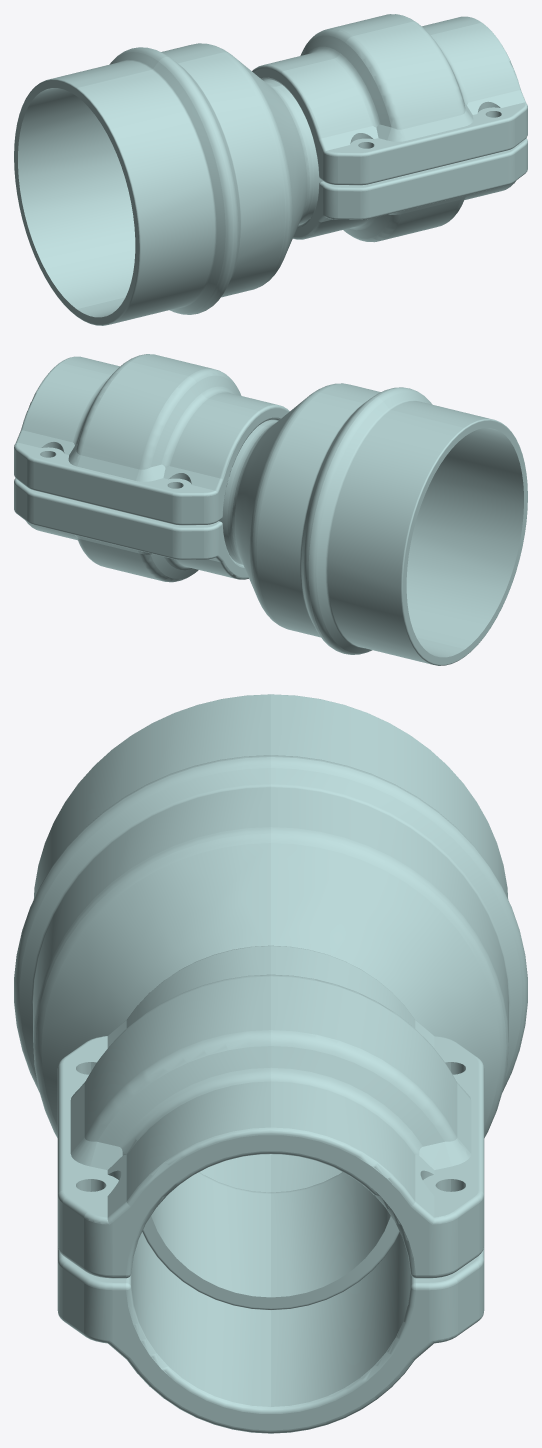
The picture shows the model from 3 angles, top to bottom: view 1: azimuth 30°, elevation 25°; view 2: azimuth 150°, elevation 25°; view 3: azimuth 270°, elevation 25°; orthographic projection. The views are drawn at different scales.
Size of the model in its own units: 160 by 92.95 by 92.83.
